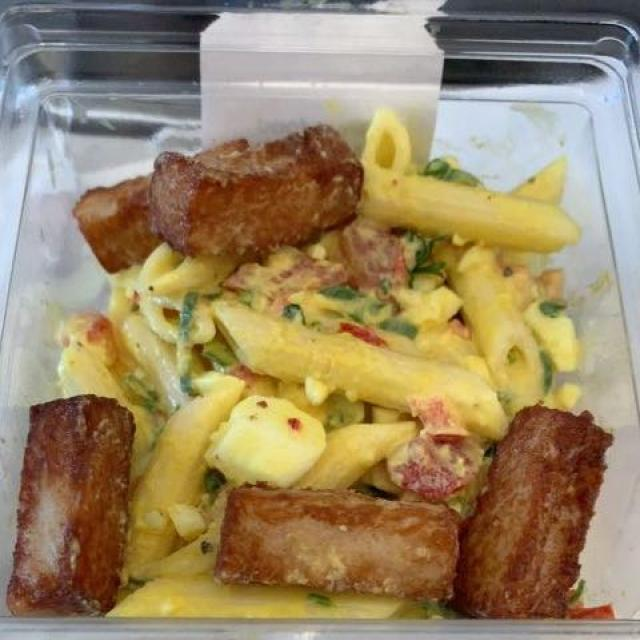chicken: (9, 123, 625, 623)
